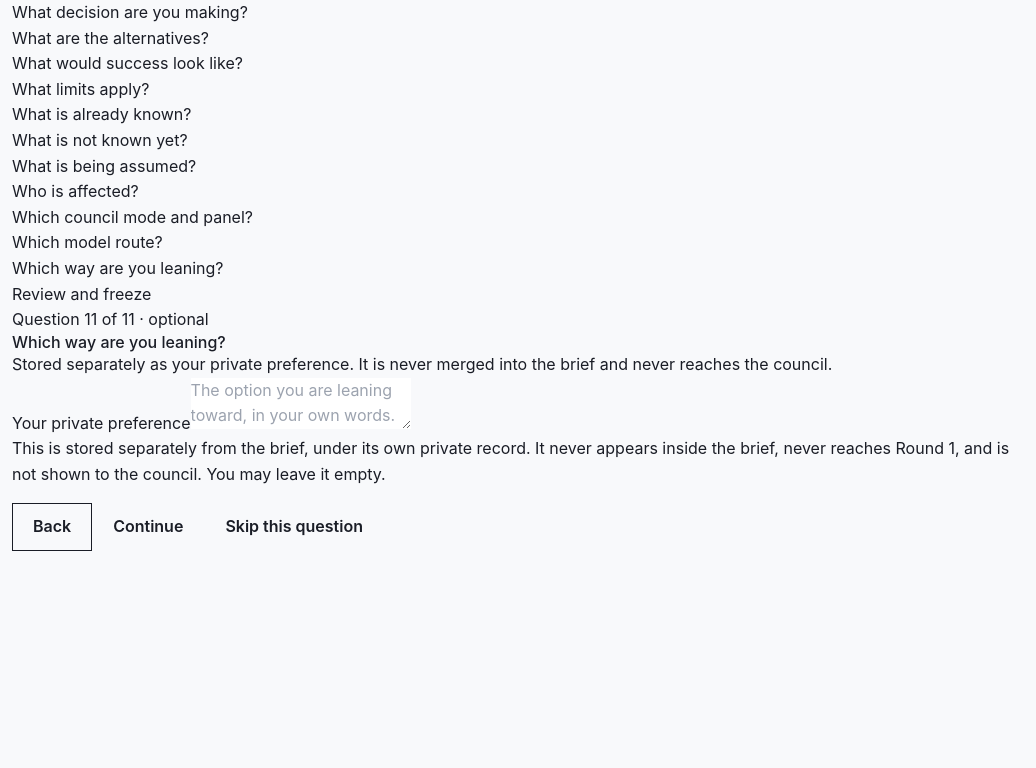
it: intake journey › keeps the private preference in its own step and out of the brief
expect the element with test id "intake-step-preference" is shown: met, box [12, 307, 1035, 551]
In the text box labelled "Your private preference": (300, 403) [190, 378, 410, 429], type "ZZ-PRIVATE-PREFERENCE-MARKER"
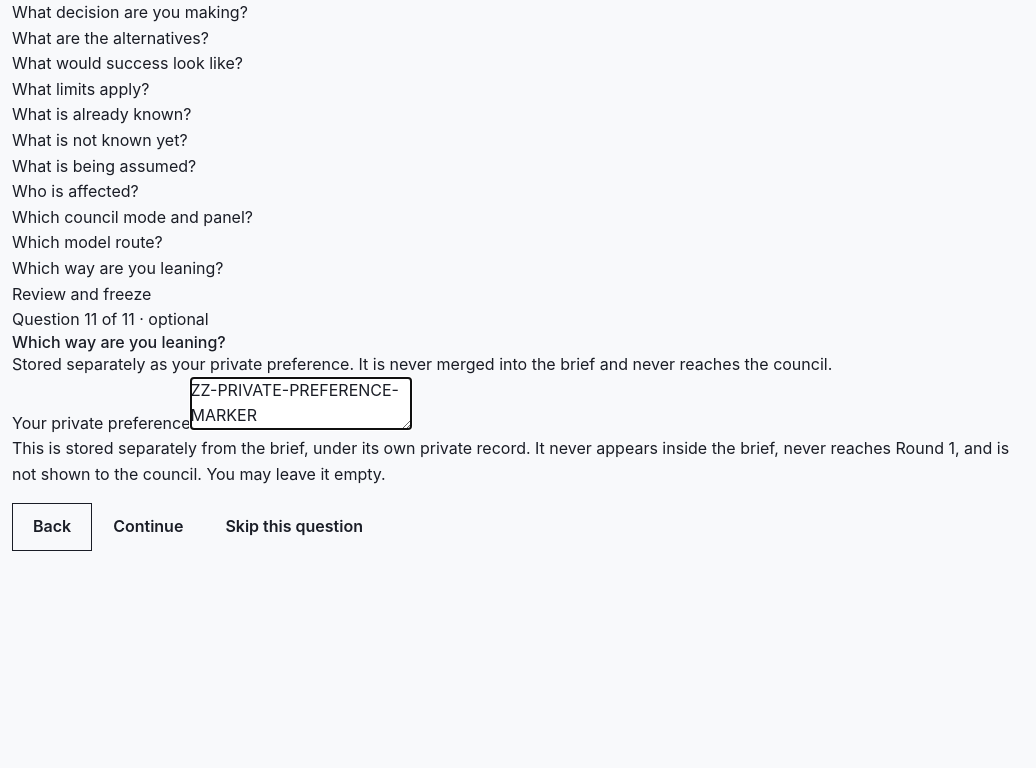
Click the button with test id "intake-continue": (148, 527) [92, 504, 204, 551]
(page scrolled)
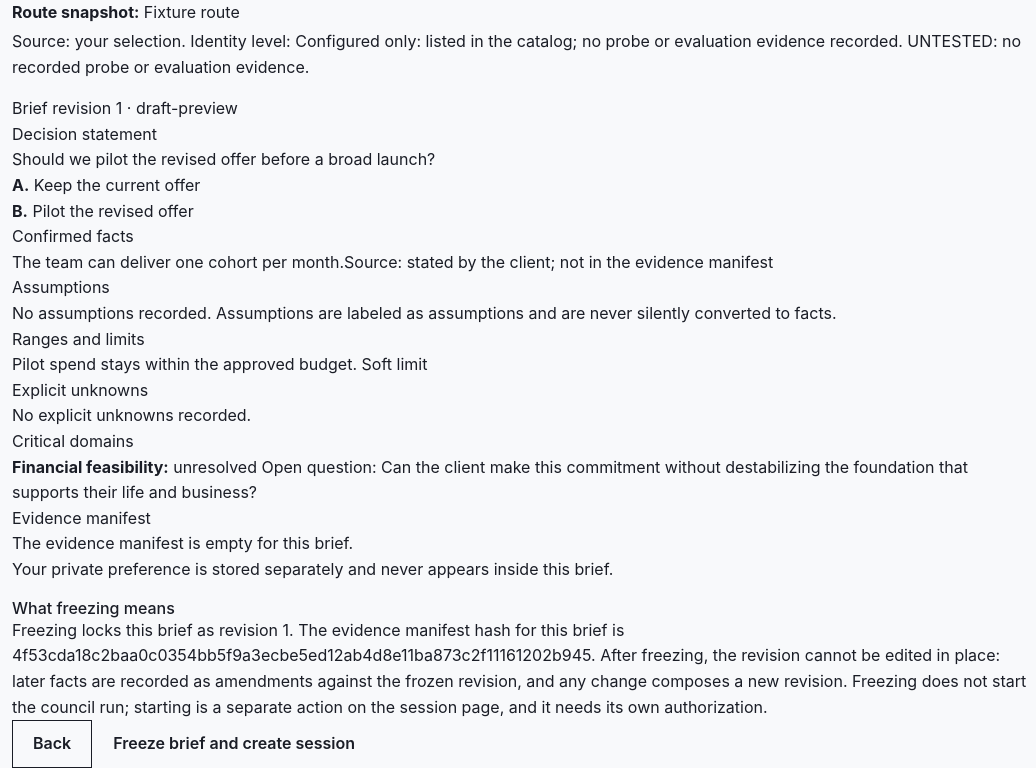
expect the element with test id "brief-review" is shown: met
expect the text with test id "brief-preference-note" shows "never appears inside this brief": met, box [12, 559, 613, 579]
expect the element with test id "freeze-explanation" shows "locks this brief as revision 1": met, box [12, 620, 624, 640]
